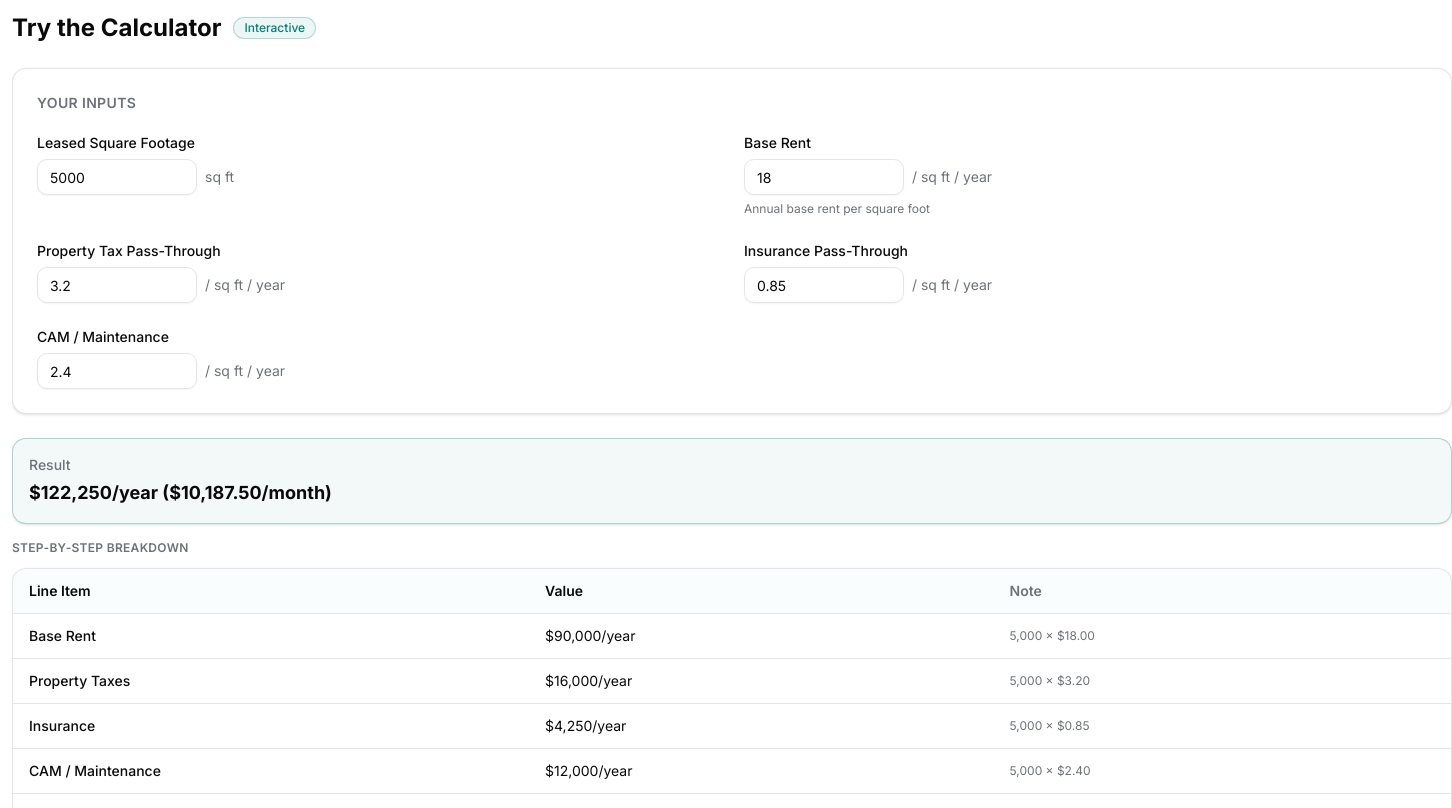
InteractiveCalculator › shows the empty state when a required value is cleared
Clear the number field labelled "Leased Square Footage" at x=117, y=177, box [37,159,197,195]
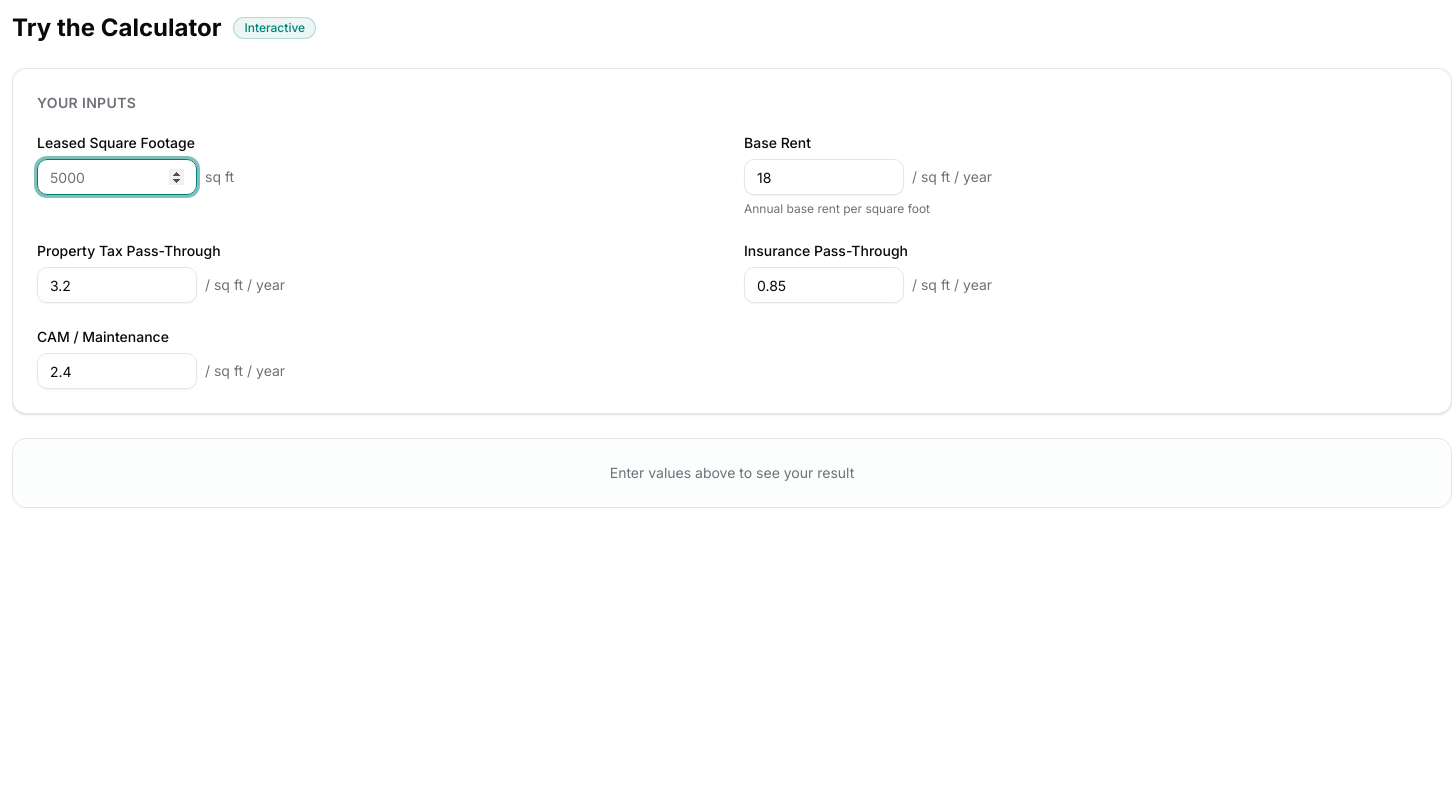
Now the text "Enter values above to see your result" is shown, box [610,464,854,481]
